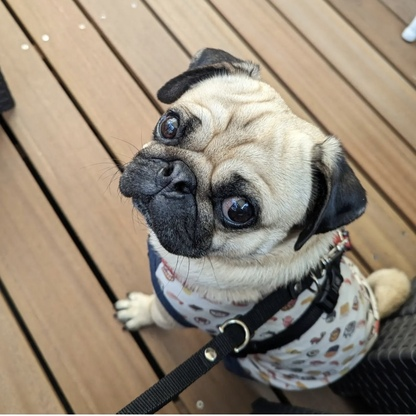Pug: (105, 39, 416, 393)
